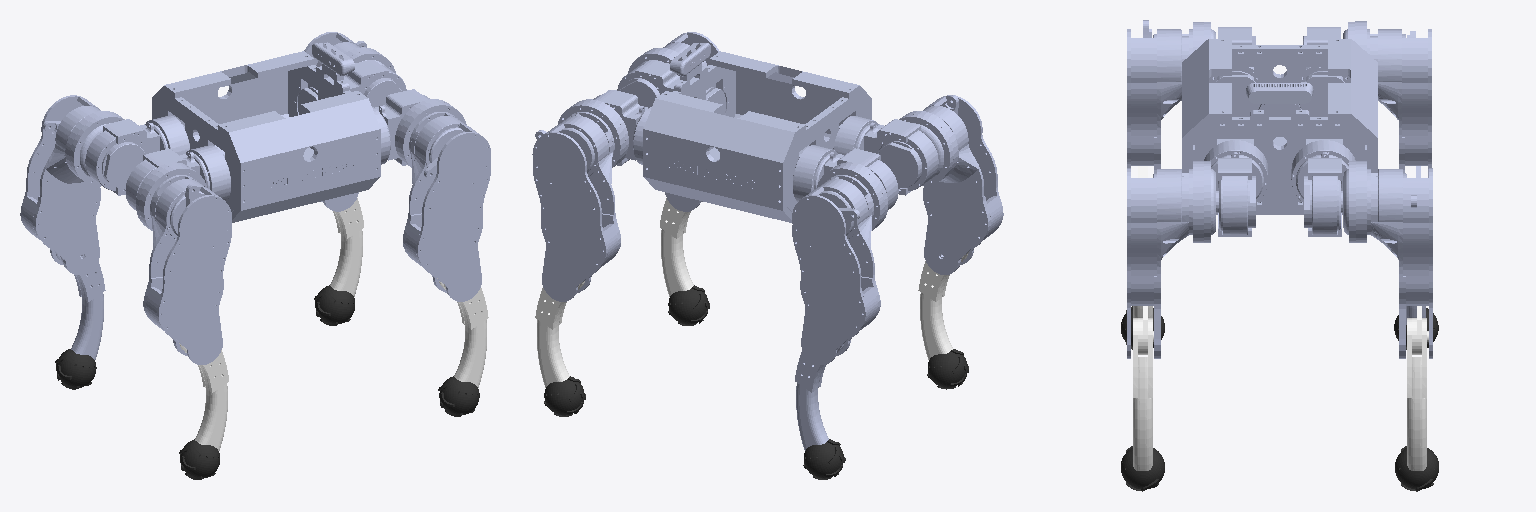
The robot description file, URDF, robot "robot_4_description":
<?xml version="1.0" encoding="utf-8"?>
<!-- This URDF was automatically created by SolidWorks to URDF Exporter! Originally created by [author] ([email redacted]) 
     Commit Version: 1.6.0-4-g7f85cfe  Build Version: 1.6.7995.38578
     For more information, please see http://wiki.ros.org/sw_urdf_exporter -->
<robot
  name="robot_4_description">
  <link
    name="base_link">
    <inertial>
      <origin
        xyz="0.00464842377132001 -2.46779277615055E-05 -0.00683284603885291"
        rpy="0 0 0" />
      <mass
        value="2.98642085245202" />
      <inertia
        ixx="0.00758694640758742"
        ixy="1.58532847738061E-06"
        ixz="3.65414762458647E-08"
        iyy="0.0105299251201363"
        iyz="4.66923001948671E-10"
        izz="0.0102834357411956" />
    </inertial>
    <visual>
      <origin
        xyz="0 0 0"
        rpy="0 0 0" />
      <geometry>
        <mesh
          filename="package://robot_4_description/meshes/base_link.STL" />
      </geometry>
      <material
        name="">
        <color
          rgba="0.792156862745098 0.819607843137255 0.933333333333333 1" />
      </material>
    </visual>
    <collision>
      <origin
        xyz="0 0 0"
        rpy="0 0 0" />
      <geometry>
        <mesh
          filename="package://robot_4_description/meshes/base_link.STL" />
      </geometry>
    </collision>
  </link>
  <link
    name="FL_hip_Link">
    <inertial>
      <origin
        xyz="-0.010650135101277 -0.00109808126180486 -3.67486912044093E-05"
        rpy="0 0 0" />
      <mass
        value="0.378611550925374" />
      <inertia
        ixx="0.000302326418128547"
        ixy="-1.08759280635216E-06"
        ixz="4.58311726161456E-07"
        iyy="0.000390896598316366"
        iyz="-3.63231888535585E-07"
        izz="0.000229198112197533" />
    </inertial>
    <visual>
      <origin
        xyz="0 0 0"
        rpy="0 0 0" />
      <geometry>
        <mesh
          filename="package://robot_4_description/meshes/FL_hip_Link.STL" />
      </geometry>
      <material
        name="">
        <color
          rgba="0.792156862745098 0.819607843137255 0.933333333333333 1" />
      </material>
    </visual>
    <collision>
      <origin
        xyz="0 0 0"
        rpy="0 0 0" />
      <geometry>
        <mesh
          filename="package://robot_4_description/meshes/FL_hip_Link.STL" />
      </geometry>
    </collision>
  </link>
  <joint
    name="FL_hip_joint"
    type="revolute">
    <origin
      xyz="0.22236 0.06 -0.00825"
      rpy="0 0 0" />
    <parent
      link="base_link" />
    <child
      link="FL_hip_Link" />
    <axis
      xyz="1 0 0" />
    <limit
      lower="-1.04"
      upper="1.04"
      effort="10"
      velocity="1.5" />
  </joint>
  <link
    name="FL_thigh_Link">
    <inertial>
      <origin
        xyz="-0.00682520732275751 -0.0583425523335088 -0.0589561767804712"
        rpy="0 0 0" />
      <mass
        value="1.54828180179735" />
      <inertia
        ixx="0.00418133271033753"
        ixy="1.39908429985115E-05"
        ixz="-0.000169779395611581"
        iyy="0.00509346079297354"
        iyz="9.65428256827811E-05"
        izz="0.00122104611776831" />
    </inertial>
    <visual>
      <origin
        xyz="0 0 0"
        rpy="0 0 0" />
      <geometry>
        <mesh
          filename="package://robot_4_description/meshes/FL_thigh_Link.STL" />
      </geometry>
      <material
        name="">
        <color
          rgba="0.792156862745098 0.819607843137255 0.933333333333333 1" />
      </material>
    </visual>
    <collision>
      <origin
        xyz="0 0 0"
        rpy="0 0 0" />
      <geometry>
        <mesh
          filename="package://robot_4_description/meshes/FL_thigh_Link.STL" />
      </geometry>
    </collision>
  </link>
  <joint
    name="FL_thigh_joint"
    type="revolute">
    <origin
      xyz="0 0.1246 0"
      rpy="0 0 0" />
    <parent
      link="FL_hip_Link" />
    <child
      link="FL_thigh_Link" />
    <axis
      xyz="0 1 0" />
    <limit
      lower="-1.57"
      upper="1.57"
      effort="10"
      velocity="1.5" />
  </joint>
  <link
    name="FL_calf_Link">
    <inertial>
      <origin
        xyz="0.0165086579482901 0.000229590767768878 -0.0791901729304623"
        rpy="0 0 0" />
      <mass
        value="0.204904852734148" />
      <inertia
        ixx="0.000304328682387942"
        ixy="3.57889249872936E-07"
        ixz="-1.11719555527963E-05"
        iyy="0.000337281256955306"
        iyz="-6.16253364753373E-07"
        izz="4.5999921301423E-05" />
    </inertial>
    <visual>
      <origin
        xyz="0 0 0"
        rpy="0 0 0" />
      <geometry>
        <mesh
          filename="package://robot_4_description/meshes/FL_calf_Link.STL" />
      </geometry>
      <material
        name="">
        <color
          rgba="1 1 1 1" />
      </material>
    </visual>
    <collision>
      <origin
        xyz="0 0 0"
        rpy="0 0 0" />
      <geometry>
        <mesh
          filename="package://robot_4_description/meshes/FL_calf_Link.STL" />
      </geometry>
    </collision>
  </link>
  <joint
    name="FL_calf_joint"
    type="revolute">
    <origin
      xyz="0 0 -0.2"
      rpy="0 0 0" />
    <parent
      link="FL_thigh_Link" />
    <child
      link="FL_calf_Link" />
    <axis
      xyz="0 1 0" />
    <limit
      lower="0"
      upper="1.39"
      effort="10"
      velocity="1.5" />
  </joint>
  <link
    name="FL_foot_Link">
    <inertial>
      <origin
        xyz="0.000506940452446342 -6.67235503540309E-06 -0.00424357021734012"
        rpy="0 0 0" />
      <mass
        value="0.0902811394339652" />
      <inertia
        ixx="3.37464756436099E-05"
        ixy="-6.89440343924054E-08"
        ixz="2.51638568777498E-06"
        iyy="3.13614919192914E-05"
        iyz="5.74764289601871E-08"
        izz="3.57723694883206E-05" />
    </inertial>
    <visual>
      <origin
        xyz="0 0 0"
        rpy="0 0 0" />
      <geometry>
        <mesh
          filename="package://robot_4_description/meshes/FL_foot_Link.STL" />
      </geometry>
      <material
        name="">
        <color
          rgba="0.250980392156863 0.250980392156863 0.250980392156863 1" />
      </material>
    </visual>
    <collision>
      <origin
        xyz="0 0 0"
        rpy="0 0 0" />
      <geometry>
        <mesh
          filename="package://robot_4_description/meshes/FL_foot_Link.STL" />
      </geometry>
    </collision>
  </link>
  <joint
    name="FL_foot_joint"
    type="fixed">
    <origin
      xyz="0 0 -0.1925"
      rpy="0 0 0" />
    <parent
      link="FL_calf_Link" />
    <child
      link="FL_foot_Link" />
    <axis
      xyz="0 0 0" />
  </joint>
  <link
    name="FR_hip_Link">
    <inertial>
      <origin
        xyz="-0.0106357927230198 0.00109808126180486 -6.53026322564726E-05"
        rpy="0 0 0" />
      <mass
        value="0.378611550925375" />
      <inertia
        ixx="0.000302090020576364"
        ixy="9.68523666743332E-07"
        ixz="3.66104511807488E-07"
        iyy="0.000390896598316366"
        iyz="4.8398906230826E-07"
        izz="0.000229434509749716" />
    </inertial>
    <visual>
      <origin
        xyz="0 0 0"
        rpy="0 0 0" />
      <geometry>
        <mesh
          filename="package://robot_4_description/meshes/FR_hip_Link.STL" />
      </geometry>
      <material
        name="">
        <color
          rgba="0.792156862745098 0.819607843137255 0.933333333333333 1" />
      </material>
    </visual>
    <collision>
      <origin
        xyz="0 0 0"
        rpy="0 0 0" />
      <geometry>
        <mesh
          filename="package://robot_4_description/meshes/FR_hip_Link.STL" />
      </geometry>
    </collision>
  </link>
  <joint
    name="FR_hip_joint"
    type="revolute">
    <origin
      xyz="0.22236 -0.06 -0.00825"
      rpy="0 0 0" />
    <parent
      link="base_link" />
    <child
      link="FR_hip_Link" />
    <axis
      xyz="1 0 0" />
    <limit
      lower="-1.04"
      upper="1.04"
      effort="10"
      velocity="1.5" />
  </joint>
  <link
    name="FR_thigh_Link">
    <inertial>
      <origin
        xyz="-0.00619814023861601 -0.011948500416094 -0.0487994238389075"
        rpy="0 0 0" />
      <mass
        value="1.14013074333659" />
      <inertia
        ixx="0.00265255369349132"
        ixy="-4.11396169579848E-07"
        ixz="-9.8768838100962E-05"
        iyy="0.00331325368459254"
        iyz="-8.76914316175487E-07"
        izz="0.000896708801820135" />
    </inertial>
    <visual>
      <origin
        xyz="0 0 0"
        rpy="0 0 0" />
      <geometry>
        <mesh
          filename="package://robot_4_description/meshes/FR_thigh_Link.STL" />
      </geometry>
      <material
        name="">
        <color
          rgba="0.792156862745098 0.819607843137255 0.933333333333333 1" />
      </material>
    </visual>
    <collision>
      <origin
        xyz="0 0 0"
        rpy="0 0 0" />
      <geometry>
        <mesh
          filename="package://robot_4_description/meshes/FR_thigh_Link.STL" />
      </geometry>
    </collision>
  </link>
  <joint
    name="FR_thigh_joint"
    type="revolute">
    <origin
      xyz="0 -0.12303 0"
      rpy="0 0 0" />
    <parent
      link="FR_hip_Link" />
    <child
      link="FR_thigh_Link" />
    <axis
      xyz="0 1 0" />
    <limit
      lower="-1.57"
      upper="1.57"
      effort="10"
      velocity="1.5" />
  </joint>
  <link
    name="FR_calf_Link">
    <inertial>
      <origin
        xyz="0.0165086612439876 -0.00126031581306352 -0.0791901659957452"
        rpy="0 0 0" />
      <mass
        value="0.204904852734147" />
      <inertia
        ixx="0.000304328680602553"
        ixy="3.57895037793239E-07"
        ixz="-1.11719570017558E-05"
        iyy="0.000337281256955308"
        iyz="-6.1624118607123E-07"
        izz="4.5999923086815E-05" />
    </inertial>
    <visual>
      <origin
        xyz="0 0 0"
        rpy="0 0 0" />
      <geometry>
        <mesh
          filename="package://robot_4_description/meshes/FR_calf_Link.STL" />
      </geometry>
      <material
        name="">
        <color
          rgba="1 1 1 1" />
      </material>
    </visual>
    <collision>
      <origin
        xyz="0 0 0"
        rpy="0 0 0" />
      <geometry>
        <mesh
          filename="package://robot_4_description/meshes/FR_calf_Link.STL" />
      </geometry>
    </collision>
  </link>
  <joint
    name="FR_calf_joint"
    type="revolute">
    <origin
      xyz="0 0 -0.2"
      rpy="0 0 0" />
    <parent
      link="FR_thigh_Link" />
    <child
      link="FR_calf_Link" />
    <axis
      xyz="0 1 0" />
    <limit
      lower="0"
      upper="1.39"
      effort="10"
      velocity="1.5" />
  </joint>
  <link
    name="FR_foot_Link">
    <inertial>
      <origin
        xyz="0.000506940452393301 -0.0014816723550457 -0.00424357021730526"
        rpy="0 0 0" />
      <mass
        value="0.0902811394339654" />
      <inertia
        ixx="3.37464756436117E-05"
        ixy="-6.89440343923135E-08"
        ixz="2.51638568777646E-06"
        iyy="3.13614919192933E-05"
        iyz="5.74764289602614E-08"
        izz="3.57723694883206E-05" />
    </inertial>
    <visual>
      <origin
        xyz="0 0 0"
        rpy="0 0 0" />
      <geometry>
        <mesh
          filename="package://robot_4_description/meshes/FR_foot_Link.STL" />
      </geometry>
      <material
        name="">
        <color
          rgba="0.250980392156863 0.250980392156863 0.250980392156863 1" />
      </material>
    </visual>
    <collision>
      <origin
        xyz="0 0 0"
        rpy="0 0 0" />
      <geometry>
        <mesh
          filename="package://robot_4_description/meshes/FR_foot_Link.STL" />
      </geometry>
    </collision>
  </link>
  <joint
    name="FR_foot_joint"
    type="fixed">
    <origin
      xyz="0 0 -0.1925"
      rpy="0 0 0" />
    <parent
      link="FR_calf_Link" />
    <child
      link="FR_foot_Link" />
    <axis
      xyz="0 0 0" />
  </joint>
  <link
    name="RL_hip_Link">
    <inertial>
      <origin
        xyz="0.0106632039726981 -0.00217536985106911 -8.10227725885071E-06"
        rpy="0 0 0" />
      <mass
        value="0.378611550925374" />
      <inertia
        ixx="0.000302599684055495"
        ixy="-1.28061154001945E-08"
        ixz="-2.21151801399047E-07"
        iyy="0.000390896598316366"
        iyz="-1.27099958806924E-07"
        izz="0.000228924846270585" />
    </inertial>
    <visual>
      <origin
        xyz="0 0 0"
        rpy="0 0 0" />
      <geometry>
        <mesh
          filename="package://robot_4_description/meshes/RL_hip_Link.STL" />
      </geometry>
      <material
        name="">
        <color
          rgba="0.792156862745098 0.819607843137255 0.933333333333333 1" />
      </material>
    </visual>
    <collision>
      <origin
        xyz="0 0 0"
        rpy="0 0 0" />
      <geometry>
        <mesh
          filename="package://robot_4_description/meshes/RL_hip_Link.STL" />
      </geometry>
    </collision>
  </link>
  <joint
    name="RL_hip_joint"
    type="revolute">
    <origin
      xyz="-0.22236 0.06 -0.00825"
      rpy="0 0 0" />
    <parent
      link="base_link" />
    <child
      link="RL_hip_Link" />
    <axis
      xyz="1 0 0" />
    <limit
      lower="-1.04"
      upper="1.04"
      effort="10"
      velocity="1.5" />
  </joint>
  <link
    name="RL_thigh_Link">
    <inertial>
      <origin
        xyz="-0.00713116235030112 -0.059242551734818 -0.058939610346844"
        rpy="0 0 0" />
      <mass
        value="1.54828181492436" />
      <inertia
        ixx="0.00418139524432414"
        ixy="1.44968527301822E-05"
        ixz="-0.000165356348600451"
        iyy="0.00509346092144286"
        iyz="9.766527028813E-05"
        izz="0.00122098371586442" />
    </inertial>
    <visual>
      <origin
        xyz="0 0 0"
        rpy="0 0 0" />
      <geometry>
        <mesh
          filename="package://robot_4_description/meshes/RL_thigh_Link.STL" />
      </geometry>
      <material
        name="">
        <color
          rgba="0.792156862745098 0.819607843137255 0.933333333333333 1" />
      </material>
    </visual>
    <collision>
      <origin
        xyz="0 0 0"
        rpy="0 0 0" />
      <geometry>
        <mesh
          filename="package://robot_4_description/meshes/RL_thigh_Link.STL" />
      </geometry>
    </collision>
  </link>
  <joint
    name="RL_thigh_joint"
    type="revolute">
    <origin
      xyz="0 0.1246 0"
      rpy="0 0 0" />
    <parent
      link="RL_hip_Link" />
    <child
      link="RL_thigh_Link" />
    <axis
      xyz="0 1 0" />
    <limit
      lower="-1.57"
      upper="1.57"
      effort="10"
      velocity="1.5" />
  </joint>
  <link
    name="RL_calf_Link">
    <inertial>
      <origin
        xyz="0.0165086635753078 -0.00067040923223069 -0.0791901672436678"
        rpy="0 0 0" />
      <mass
        value="0.204904852734148" />
      <inertia
        ixx="0.000304328682330177"
        ixy="3.57899489958911E-07"
        ixz="-1.11719562206555E-05"
        iyy="0.000337281256955302"
        iyz="-6.16243303646485E-07"
        izz="4.5999921359186E-05" />
    </inertial>
    <visual>
      <origin
        xyz="0 0 0"
        rpy="0 0 0" />
      <geometry>
        <mesh
          filename="package://robot_4_description/meshes/RL_calf_Link.STL" />
      </geometry>
      <material
        name="">
        <color
          rgba="0.792156862745098 0.819607843137255 0.933333333333333 1" />
      </material>
    </visual>
    <collision>
      <origin
        xyz="0 0 0"
        rpy="0 0 0" />
      <geometry>
        <mesh
          filename="package://robot_4_description/meshes/RL_calf_Link.STL" />
      </geometry>
    </collision>
  </link>
  <joint
    name="RL_calf_joint"
    type="revolute">
    <origin
      xyz="0 0 -0.2"
      rpy="0 0 0" />
    <parent
      link="RL_thigh_Link" />
    <child
      link="RL_calf_Link" />
    <axis
      xyz="0 1 0" />
    <limit
      lower="0"
      upper="1.39"
      effort="10"
      velocity="1.5" />
  </joint>
  <link
    name="RL_foot_Link">
    <inertial>
      <origin
        xyz="0.000506939426812569 -0.000906672355035443 -0.00424357021861566"
        rpy="0 0 0" />
      <mass
        value="0.0902811394339652" />
      <inertia
        ixx="3.37464756566216E-05"
        ixy="-6.89440342438298E-08"
        ixz="2.51638569301326E-06"
        iyy="3.13614919192929E-05"
        iyz="5.747642913853E-08"
        izz="3.57723694753105E-05" />
    </inertial>
    <visual>
      <origin
        xyz="0 0 0"
        rpy="0 0 0" />
      <geometry>
        <mesh
          filename="package://robot_4_description/meshes/RL_foot_Link.STL" />
      </geometry>
      <material
        name="">
        <color
          rgba="0.250980392156863 0.250980392156863 0.250980392156863 1" />
      </material>
    </visual>
    <collision>
      <origin
        xyz="0 0 0"
        rpy="0 0 0" />
      <geometry>
        <mesh
          filename="package://robot_4_description/meshes/RL_foot_Link.STL" />
      </geometry>
    </collision>
  </link>
  <joint
    name="RL_foot_joint"
    type="fixed">
    <origin
      xyz="0 0 -0.1925"
      rpy="0 0 0" />
    <parent
      link="RL_calf_Link" />
    <child
      link="RL_foot_Link" />
    <axis
      xyz="0 0 0" />
  </joint>
  <link
    name="RR_hip_Link">
    <inertial>
      <origin
        xyz="0.0105987041047942 0.00109808126180486 -6.54497933397433E-05"
        rpy="0 0 0" />
      <mass
        value="0.378611550925374" />
      <inertia
        ixx="0.000301786792951139"
        ixy="-6.6061727809664E-07"
        ixz="-1.25389622965885E-07"
        iyy="0.000390896598316366"
        iyz="6.01505868898987E-07"
        izz="0.000229737737374941" />
    </inertial>
    <visual>
      <origin
        xyz="0 0 0"
        rpy="0 0 0" />
      <geometry>
        <mesh
          filename="package://robot_4_description/meshes/RR_hip_Link.STL" />
      </geometry>
      <material
        name="">
        <color
          rgba="0.792156862745098 0.819607843137255 0.933333333333333 1" />
      </material>
    </visual>
    <collision>
      <origin
        xyz="0 0 0"
        rpy="0 0 0" />
      <geometry>
        <mesh
          filename="package://robot_4_description/meshes/RR_hip_Link.STL" />
      </geometry>
    </collision>
  </link>
  <joint
    name="RR_hip_joint"
    type="revolute">
    <origin
      xyz="-0.22236 -0.06 -0.00825"
      rpy="0 0 0" />
    <parent
      link="base_link" />
    <child
      link="RR_hip_Link" />
    <axis
      xyz="1 0 0" />
    <limit
      lower="-1.04"
      upper="1.04"
      effort="10"
      velocity="1.5" />
  </joint>
  <link
    name="RR_thigh_Link">
    <inertial>
      <origin
        xyz="-0.00606246311321851 -0.0119484996302758 -0.0484711238934918"
        rpy="0 0 0" />
      <mass
        value="1.1401302480458" />
      <inertia
        ixx="0.00265742166728307"
        ixy="6.16575629721611E-07"
        ixz="-9.5069480240226E-05"
        iyy="0.00331325457305853"
        iyz="-8.92545638359517E-07"
        izz="0.000891841567707805" />
    </inertial>
    <visual>
      <origin
        xyz="0 0 0"
        rpy="0 0 0" />
      <geometry>
        <mesh
          filename="package://robot_4_description/meshes/RR_thigh_Link.STL" />
      </geometry>
      <material
        name="">
        <color
          rgba="0.792156862745098 0.819607843137255 0.933333333333333 1" />
      </material>
    </visual>
    <collision>
      <origin
        xyz="0 0 0"
        rpy="0 0 0" />
      <geometry>
        <mesh
          filename="package://robot_4_description/meshes/RR_thigh_Link.STL" />
      </geometry>
    </collision>
  </link>
  <joint
    name="RR_thigh_joint"
    type="revolute">
    <origin
      xyz="0 -0.12303 0"
      rpy="0 0 0" />
    <parent
      link="RR_hip_Link" />
    <child
      link="RR_thigh_Link" />
    <axis
      xyz="0 1 0" />
    <limit
      lower="-1.57"
      upper="1.57"
      effort="10"
      velocity="1.5" />
  </joint>
  <link
    name="RR_calf_Link">
    <inertial>
      <origin
        xyz="0.0141966547751516 -0.00147499549256241 -0.0703132407544311"
        rpy="0 0 0" />
      <mass
        value="0.226775166531808" />
      <inertia
        ixx="0.000315458371984"
        ixy="3.92108256708176E-11"
        ixz="-7.68557073749516E-06"
        iyy="0.000354939109515044"
        iyz="3.64460665091036E-11"
        izz="5.31499091636093E-05" />
    </inertial>
    <visual>
      <origin
        xyz="0 0 0"
        rpy="0 0 0" />
      <geometry>
        <mesh
          filename="package://robot_4_description/meshes/RR_calf_Link.STL" />
      </geometry>
      <material
        name="">
        <color
          rgba="1 1 1 1" />
      </material>
    </visual>
    <collision>
      <origin
        xyz="0 0 0"
        rpy="0 0 0" />
      <geometry>
        <mesh
          filename="package://robot_4_description/meshes/RR_calf_Link.STL" />
      </geometry>
    </collision>
  </link>
  <joint
    name="RR_calf_joint"
    type="revolute">
    <origin
      xyz="0 0 -0.2"
      rpy="0 0 0" />
    <parent
      link="RR_thigh_Link" />
    <child
      link="RR_calf_Link" />
    <axis
      xyz="0 1 0" />
    <limit
      lower="0"
      upper="1.39"
      effort="10"
      velocity="1.5" />
  </joint>
  <link
    name="RR_foot_Link">
    <inertial>
      <origin
        xyz="0.00050693942679278 -0.00148167235504565 -0.0042435702186408"
        rpy="0 0 0" />
      <mass
        value="0.090281139433965" />
      <inertia
        ixx="3.37464756566231E-05"
        ixy="-6.89440342438041E-08"
        ixz="2.51638569301467E-06"
        iyy="3.13614919192948E-05"
        iyz="5.74764291384712E-08"
        izz="3.57723694753106E-05" />
    </inertial>
    <visual>
      <origin
        xyz="0 0 0"
        rpy="0 0 0" />
      <geometry>
        <mesh
          filename="package://robot_4_description/meshes/RR_foot_Link.STL" />
      </geometry>
      <material
        name="">
        <color
          rgba="0.250980392156863 0.250980392156863 0.250980392156863 1" />
      </material>
    </visual>
    <collision>
      <origin
        xyz="0 0 0"
        rpy="0 0 0" />
      <geometry>
        <mesh
          filename="package://robot_4_description/meshes/RR_foot_Link.STL" />
      </geometry>
    </collision>
  </link>
  <joint
    name="RR_foot_joint"
    type="fixed">
    <origin
      xyz="0 0 -0.1925"
      rpy="0 0 0" />
    <parent
      link="RR_calf_Link" />
    <child
      link="RR_foot_Link" />
    <axis
      xyz="0 0 0" />
  </joint>
</robot>

--- Facts derived from the render (not from the file) ---
The picture shows the robot from 3 angles, left to right: view 1: azimuth 30°, elevation 25°; view 2: azimuth 150°, elevation 25°; view 3: azimuth 270°, elevation 25°; orthographic projection.
Model robot_4_description with 17 links and 16 joints (12 revolute, 4 fixed), rooted at base_link, posed every joint at zero.
Visible links, largest first — view 1: base_link, RR_thigh_Link, FR_thigh_Link, RL_thigh_Link, RL_hip_Link, FR_calf_Link, RR_calf_Link, RL_calf_Link, FL_calf_Link, FL_hip_Link, FL_thigh_Link, RR_hip_Link (+5 smaller); view 2: base_link, FL_thigh_Link, RL_thigh_Link, RR_thigh_Link, RR_hip_Link, FL_calf_Link, RL_calf_Link, RR_calf_Link, FR_calf_Link, FR_hip_Link, FR_thigh_Link, RL_hip_Link (+5 smaller); view 3: base_link, FL_thigh_Link, FR_thigh_Link, RR_thigh_Link, RL_thigh_Link, FL_calf_Link, FR_calf_Link, FL_hip_Link, FR_hip_Link, FL_foot_Link, FR_foot_Link, RL_hip_Link (+1 smaller).
Boxes of the visible links, x1=… form: base_link: x1=145, y1=42, x2=390, y2=222; RR_thigh_Link: x1=136, y1=162, x2=231, y2=364; FR_thigh_Link: x1=395, y1=99, x2=490, y2=301; RL_thigh_Link: x1=20, y1=95, x2=124, y2=274; RL_hip_Link: x1=85, y1=119, x2=159, y2=195; FR_calf_Link: x1=437, y1=278, x2=488, y2=387; RR_calf_Link: x1=179, y1=343, x2=228, y2=450; RL_calf_Link: x1=55, y1=252, x2=105, y2=359; FL_calf_Link: x1=330, y1=198, x2=363, y2=296; FL_hip_Link: x1=344, y1=60, x2=406, y2=107; FL_thigh_Link: x1=304, y1=32, x2=395, y2=211; RR_hip_Link: x1=125, y1=149, x2=199, y2=209; base_link: x1=633, y1=43, x2=878, y2=222; FL_thigh_Link: x1=532, y1=99, x2=628, y2=301; RL_thigh_Link: x1=792, y1=162, x2=887, y2=364; RR_thigh_Link: x1=899, y1=95, x2=1003, y2=274; RR_hip_Link: x1=864, y1=119, x2=938, y2=195; FL_calf_Link: x1=535, y1=281, x2=584, y2=387; RL_calf_Link: x1=795, y1=344, x2=843, y2=450; RR_calf_Link: x1=918, y1=252, x2=968, y2=359; FR_calf_Link: x1=660, y1=198, x2=693, y2=296; FR_hip_Link: x1=617, y1=60, x2=679, y2=107; FR_thigh_Link: x1=628, y1=32, x2=719, y2=211; RL_hip_Link: x1=824, y1=148, x2=898, y2=209; base_link: x1=1182, y1=39, x2=1377, y2=214; FL_thigh_Link: x1=1341, y1=161, x2=1432, y2=358; FR_thigh_Link: x1=1127, y1=161, x2=1218, y2=358; RR_thigh_Link: x1=1127, y1=20, x2=1215, y2=172; RL_thigh_Link: x1=1343, y1=21, x2=1431, y2=177; FL_calf_Link: x1=1407, y1=306, x2=1428, y2=470; FR_calf_Link: x1=1133, y1=306, x2=1153, y2=470; FL_hip_Link: x1=1304, y1=152, x2=1341, y2=236; FR_hip_Link: x1=1218, y1=152, x2=1255, y2=236; FL_foot_Link: x1=1395, y1=446, x2=1438, y2=491; FR_foot_Link: x1=1121, y1=446, x2=1164, y2=491; RL_hip_Link: x1=1303, y1=27, x2=1340, y2=44.
Size in the robot's own frame: 0.5809 by 0.4291 by 0.5483 metres.
Meshes: 17 distinct files referenced, 17 mesh visuals loaded (17 binary STL).